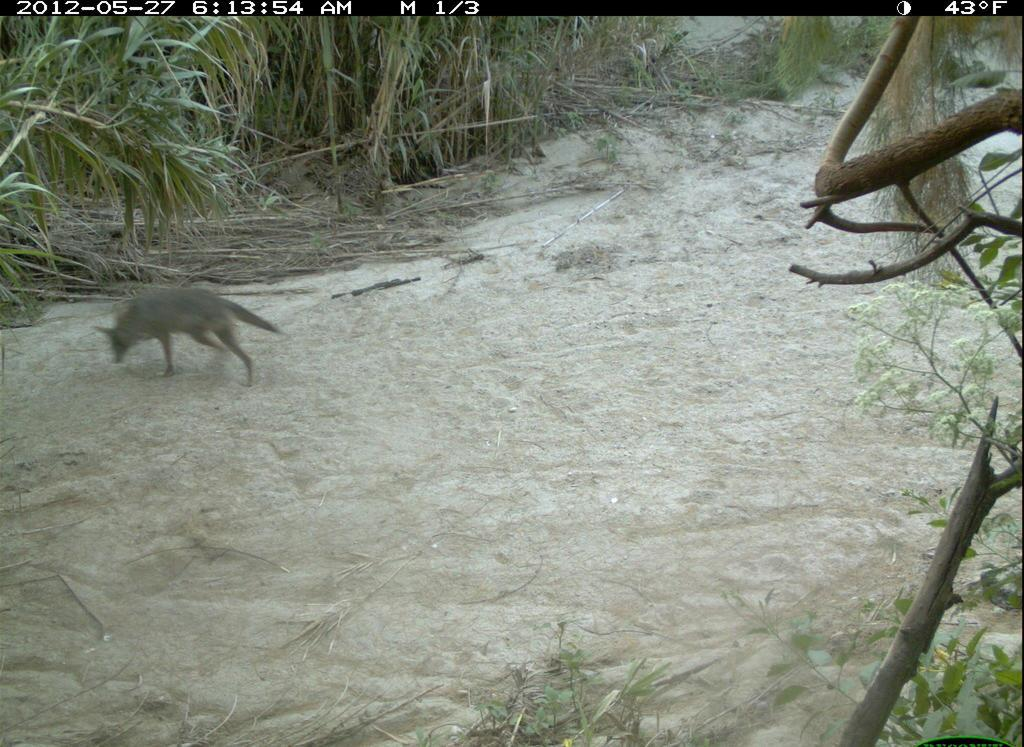coyote: (91, 276, 283, 397)
